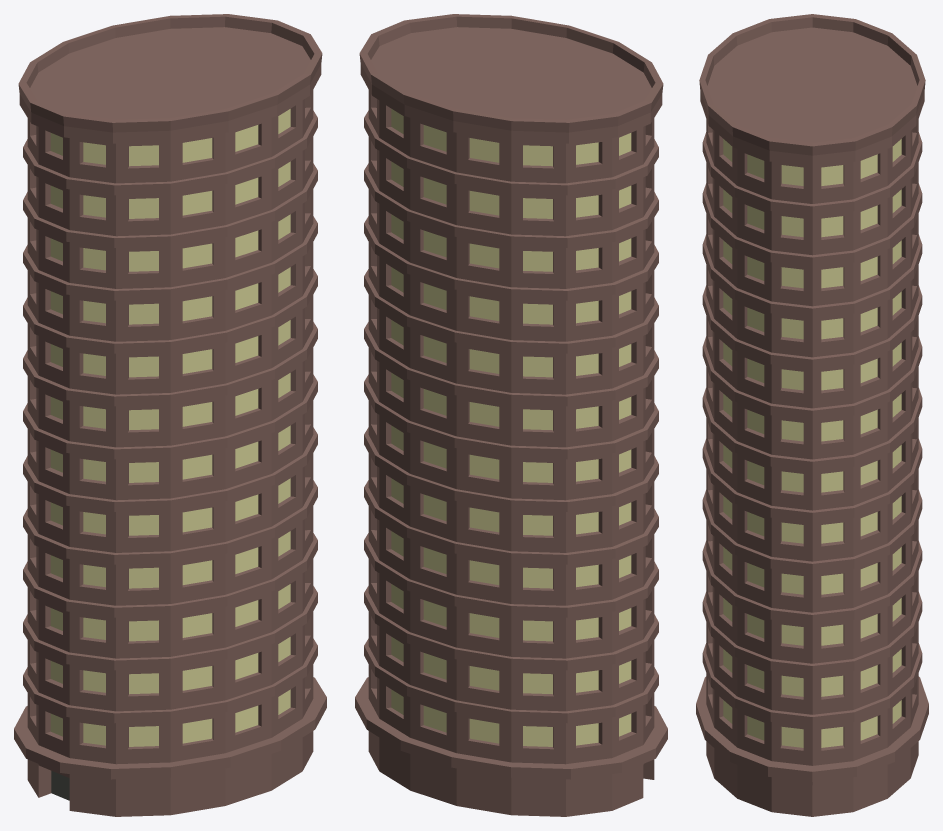
3 renders of one model, left to right at view 1: azimuth 30°, elevation 25°; view 2: azimuth 150°, elevation 25°; view 3: azimuth 270°, elevation 25°, orthographic. The views are drawn at different scales.
Visible parts, largest first — view 1: Circle.021; view 2: Circle.021; view 3: Circle.021.
Part boxes in pixels (left/top/right/bottom): Circle.021: left=14, top=14, right=326, bottom=816; Circle.021: left=355, top=14, right=667, bottom=816; Circle.021: left=696, top=14, right=928, bottom=816.
Size of the model in its own units: 1359 by 3136 by 981.
